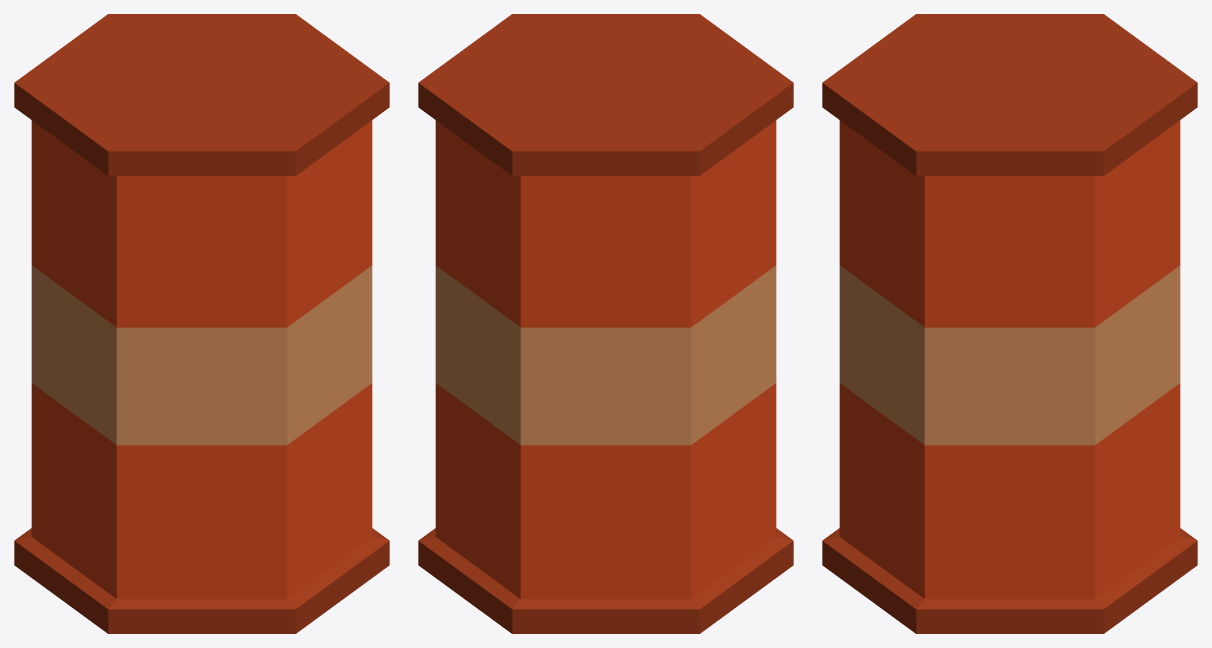
Rendered from Barrel.fbx.
3 renders of one model, left to right at view 1: azimuth 30°, elevation 25°; view 2: azimuth 150°, elevation 25°; view 3: azimuth 270°, elevation 25°, orthographic.
Parts seen in each view (by area): view 1: Circle.008; view 2: Circle.008; view 3: Circle.008.
Part boxes in pixels (x1,y1,x2,y2): Circle.008: [14, 14, 389, 633]; Circle.008: [418, 14, 793, 633]; Circle.008: [822, 14, 1197, 633].
Bounding box in the file's own units: 106 × 173 × 122.
